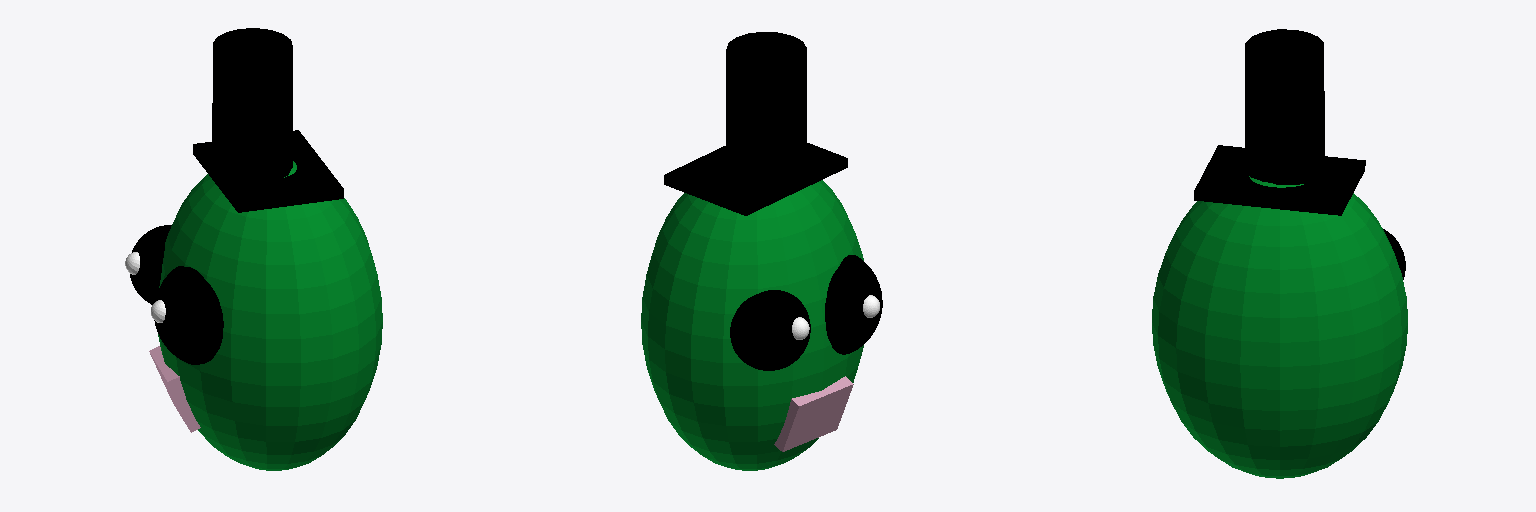
File: newscene.obj
3 views of the same model, side by side, from view 1: azimuth 30°, elevation 25°; view 2: azimuth 150°, elevation 25°; view 3: azimuth 270°, elevation 25° (orthographic).
Parts seen in each view (by area): view 1: sphere1, cylinder8, sphere3, cube7, sphere2, cube4, sphere10; view 2: sphere1, cylinder8, cube7, sphere2, sphere3, cube4, sphere10; view 3: sphere1, cylinder8, cube7.
Boxes of the visible parts, <box> form: sphere1: <box>158,161,382,470</box>; cylinder8: <box>212,28,292,184</box>; sphere3: <box>154,266,223,364</box>; cube7: <box>193,130,343,212</box>; sphere2: <box>130,225,171,304</box>; cube4: <box>149,346,200,432</box>; sphere10: <box>125,252,165,322</box>; sphere1: <box>641,180,863,470</box>; cylinder8: <box>726,32,806,188</box>; cube7: <box>664,143,847,215</box>; sphere2: <box>730,290,810,370</box>; sphere3: <box>825,255,882,354</box>; cube4: <box>774,376,853,451</box>; sphere10: <box>792,295,879,339</box>; sphere1: <box>1152,176,1407,478</box>; cylinder8: <box>1245,29,1324,184</box>; cube7: <box>1194,145,1365,215</box>.
Bounding box in the file's own units: 162 × 303 × 168.